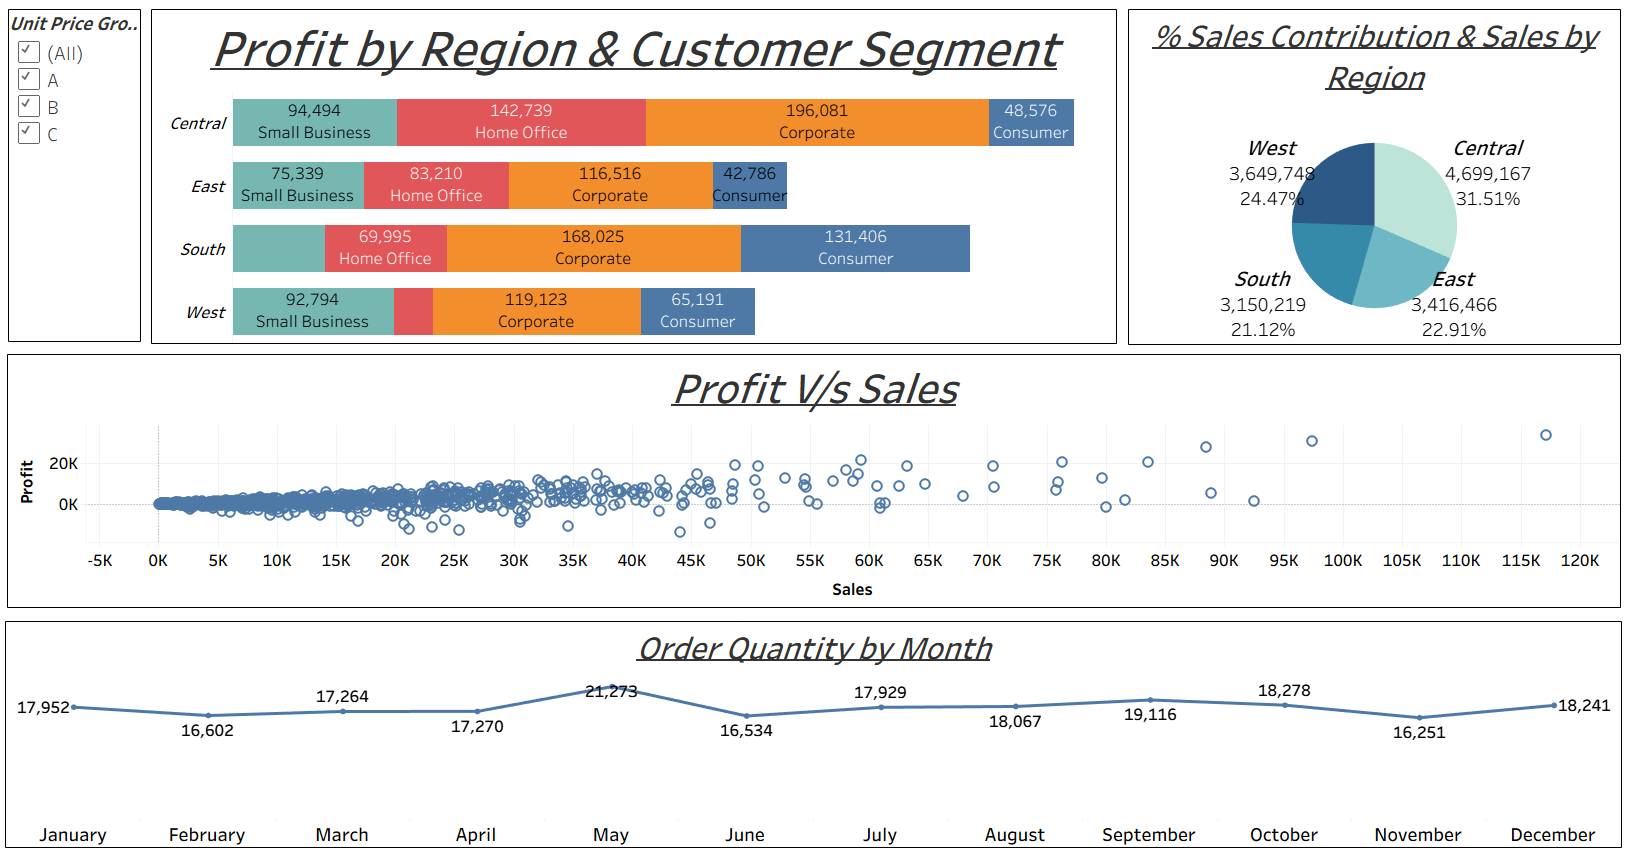

The page's visual inventory and layout, read from the dashboard file:
{"tool":"tableau","page":{"name":"Dashboard 1","canvas":[1000,1000],"units":"permille","ordinal":0},"visuals":[{"type":"filter","title":"Line Chart","param":"[federated.1sgeitl0vcnoau18d29761j9mr83].[none:Calculation_0935439355207680:nk]","box":[8.7,12.2,80.4,387.5]},{"type":"worksheet","title":"Bar Chart","mark":"Automatic","rows":["Region"],"cols":["Profit"],"box":[95.2,12.2,585.6,390]},{"type":"worksheet","title":"Pie Chart","mark":"Pie","box":[687.1,12.2,298.7,391.2]},{"type":"worksheet","title":"Scatter Plot","mark":"Automatic","rows":["Profit"],"cols":["Sales"],"box":[8,414.4,978.4,295.8]},{"type":"worksheet","title":"Line Chart","mark":"Line","rows":["Order Quantity"],"cols":["Order Date"],"box":[6.8,724.9,980.2,264.1]}]}

Visuals, with their boxes on the dashboard's canvas, which has no fixed pixel size, in thousandths of its width and height (x1, y1, x2, y2). These are canvas units, not pixel positions in the 1629x853 screenshot, which may show the page scaled, cropped or inside an application window:
"Line Chart" filter: 9:12:89:400
"Bar Chart" worksheet: 95:12:681:402
"Pie Chart" worksheet (Pie marks): 687:12:986:403
"Scatter Plot" worksheet: 8:414:986:710
"Line Chart" worksheet (Line marks): 7:725:987:989
